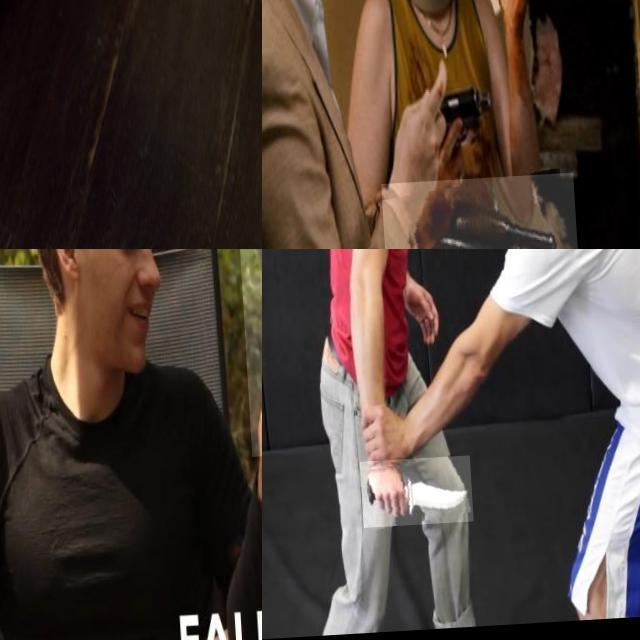-: (353, 459, 468, 530), (231, 249, 262, 460)
gun-knife-thesis - v11 Yolov5 augmented: (375, 177, 574, 249)
